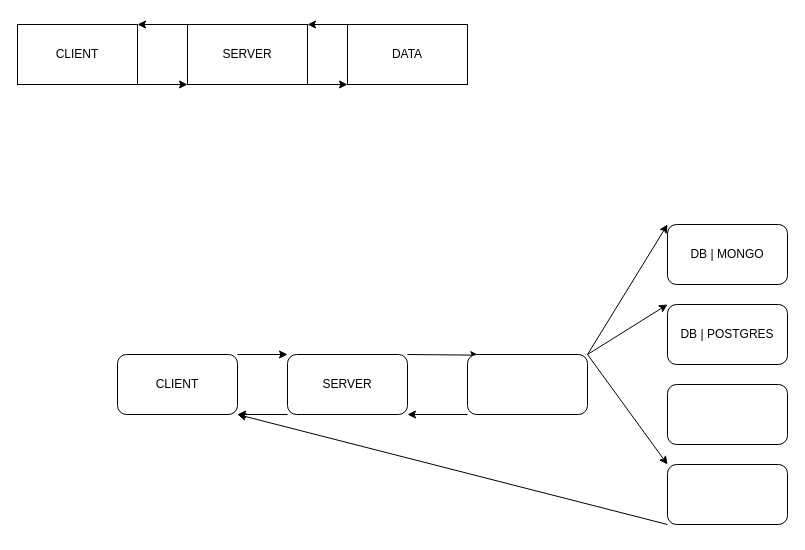
The diagram is 805 pixels wide and 550 high, and some of its shapes have lost their labels. The centre of each missing label's shape, as x and y in pixels:
BUCKET | SUPABASE: (727,494)
CACHE | REDIS: (527,384)
MQP | RABBITMQ: (727,414)
